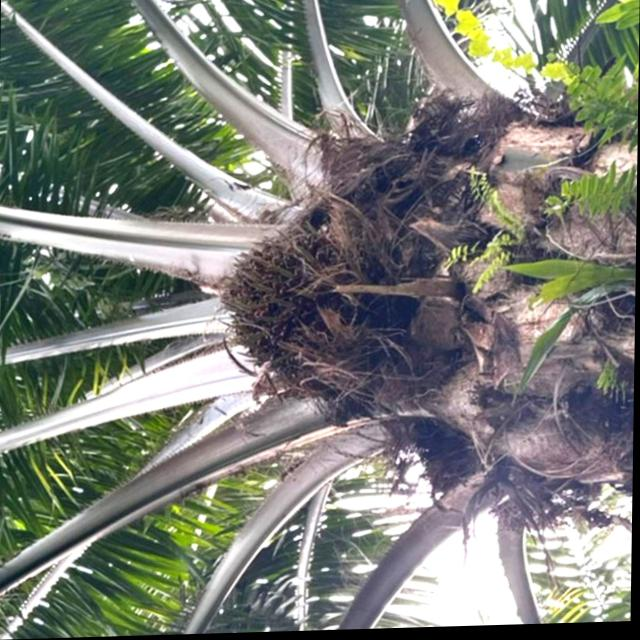ripe: (210, 226, 344, 392)
